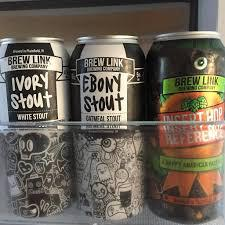beer: (1, 31, 224, 225)
